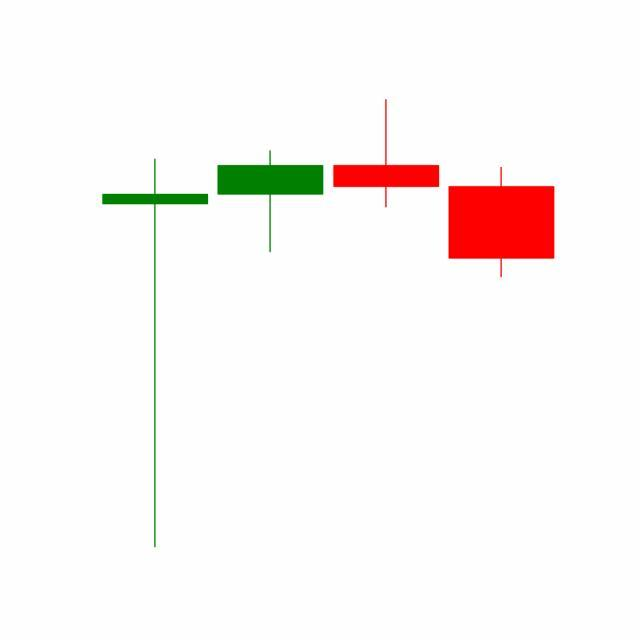Marubozu: (444, 166, 560, 280)
